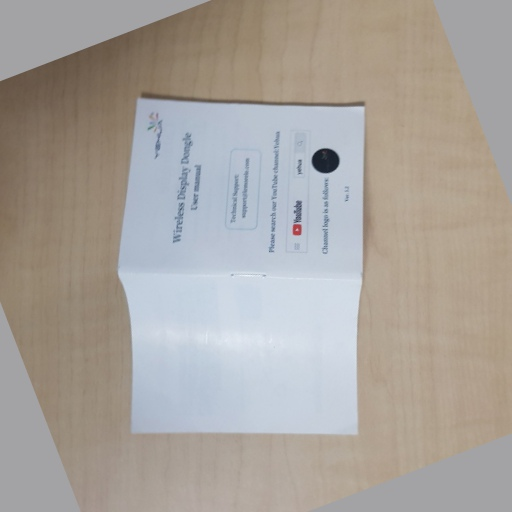Paper_0: (115, 87, 379, 454)
